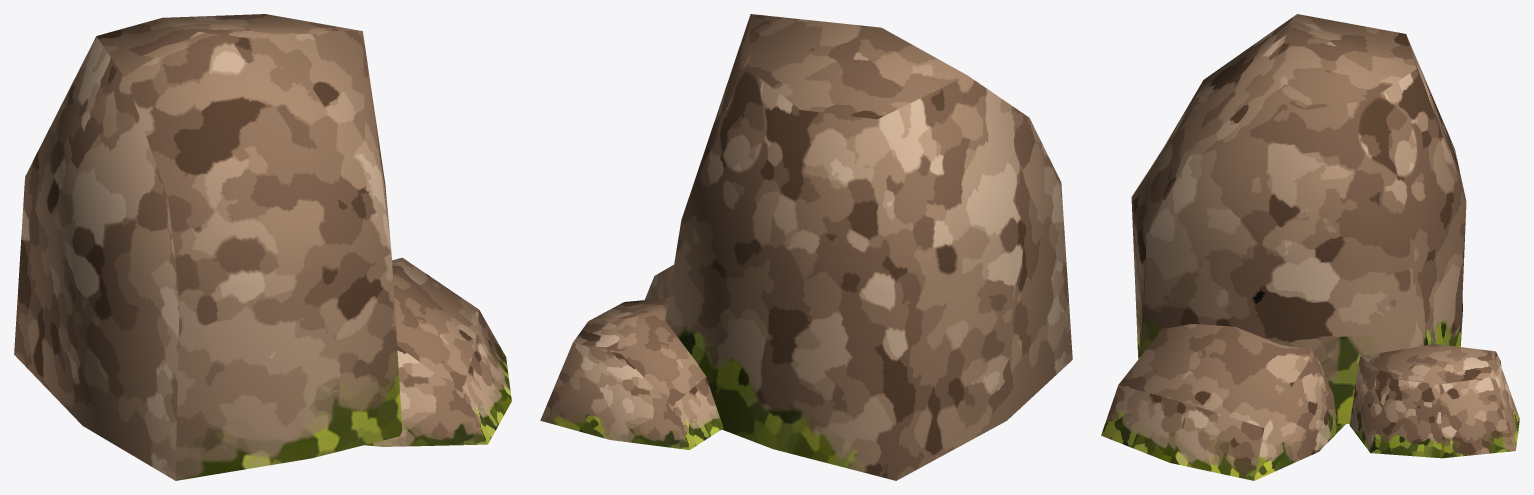
The model's file is rock_06.FBX.
The picture shows the model from 3 angles, left to right: view 1: azimuth 30°, elevation 25°; view 2: azimuth 150°, elevation 25°; view 3: azimuth 270°, elevation 25°; orthographic projection. The views are drawn at different scales.
Parts seen in each view (by area): view 1: Piedra008; view 2: Piedra008; view 3: Piedra008.
Part boxes in pixels (x1,y1,x2,y2): Piedra008: (14,14,511,480); Piedra008: (540,14,1072,480); Piedra008: (1101,14,1519,480).
Size of the model in its own units: 1.48 by 1.48 by 1.29.
Materials: 1 (1 with a texture image).
